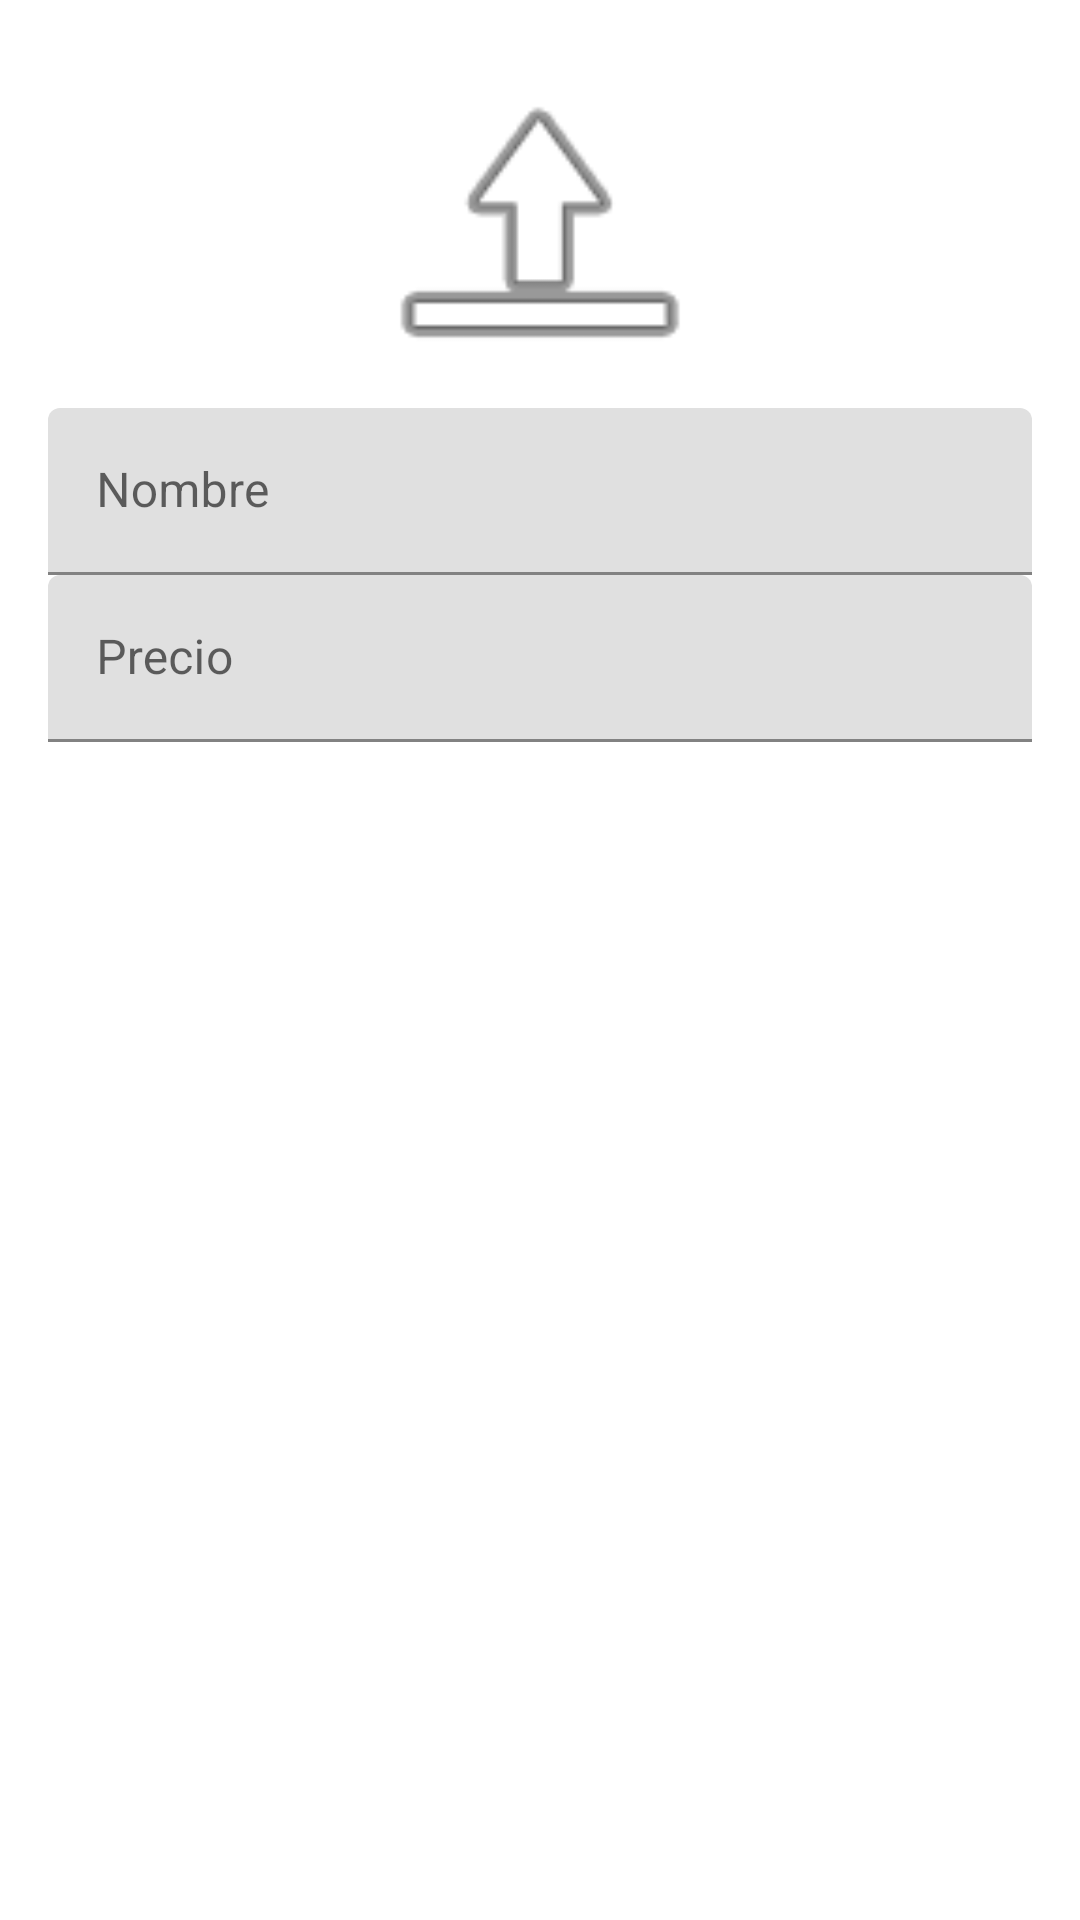

Locate icon controls on the screen. Image size 1080×1920, boxes as (x1, y1, x2, y2).
upload: (401, 108, 679, 338)
